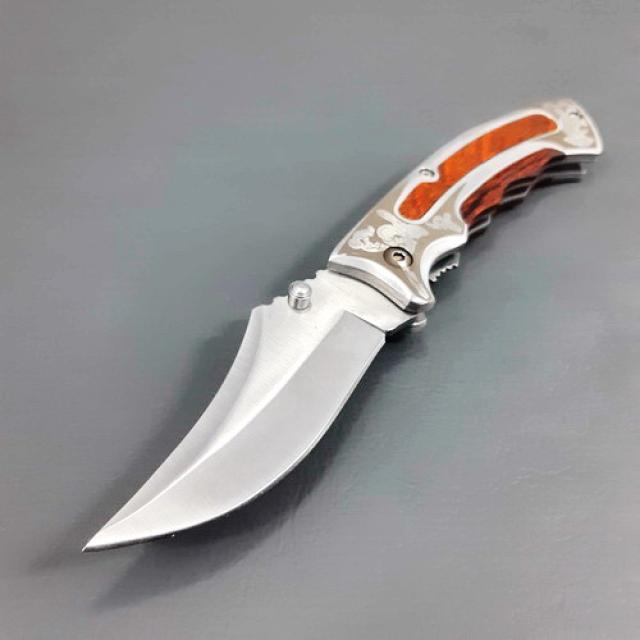Pisau: (69, 86, 610, 558)
